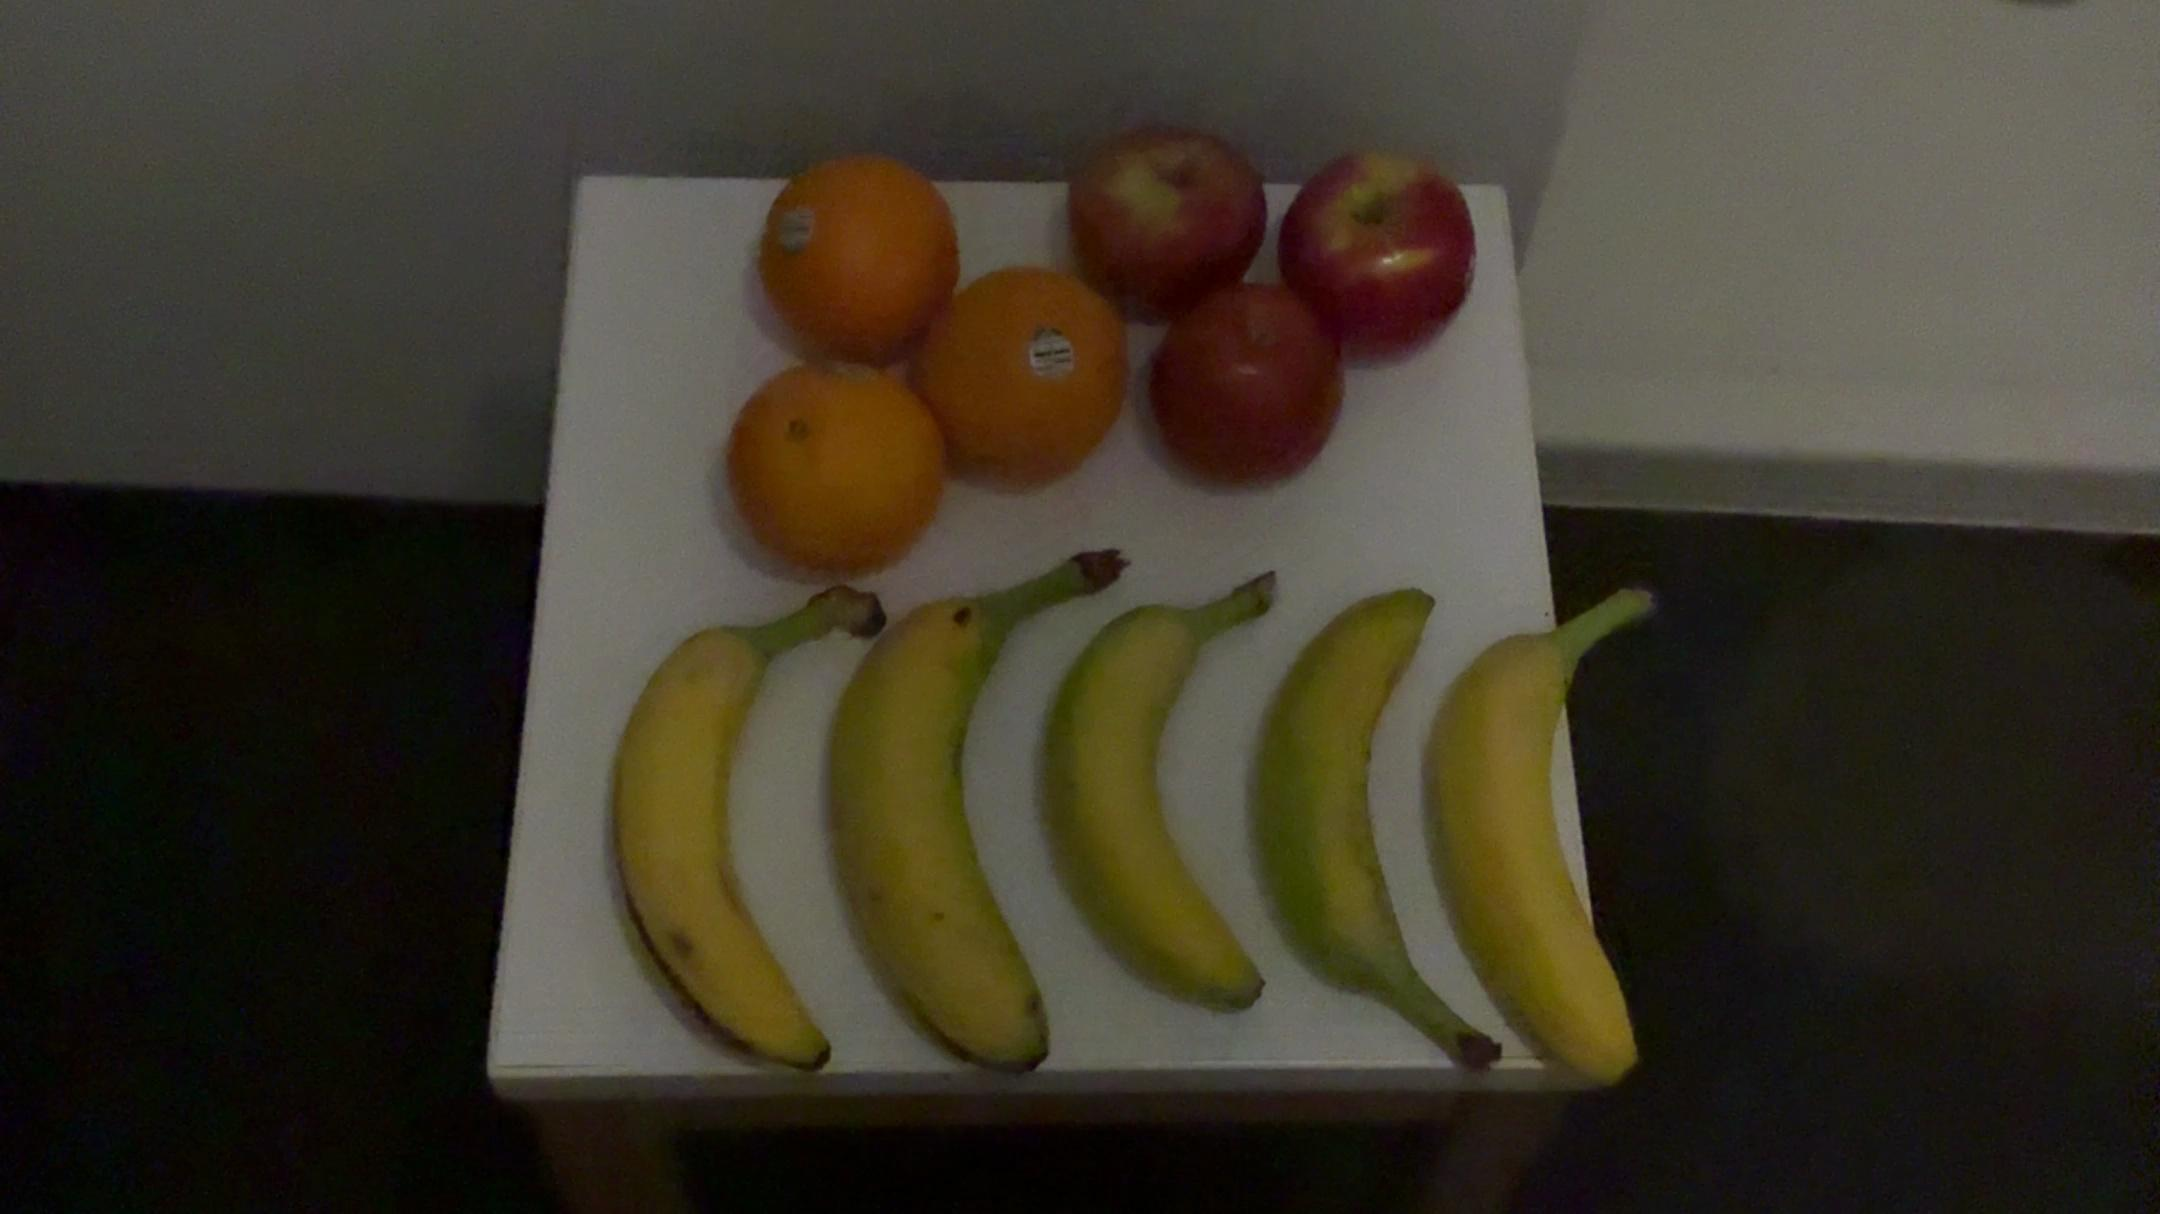apple: (1268, 135, 1481, 358), (1044, 114, 1265, 318), (1135, 291, 1344, 499)
banana: (829, 531, 1108, 1101), (587, 571, 886, 1092), (1438, 565, 1702, 1112), (1233, 562, 1501, 1085), (1038, 555, 1288, 1033)
orange: (715, 358, 949, 597), (912, 260, 1127, 506), (748, 142, 961, 371)
